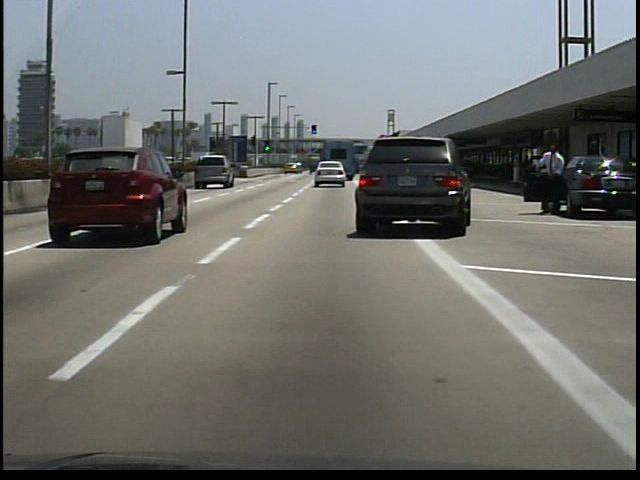person: (531, 138, 567, 217)
